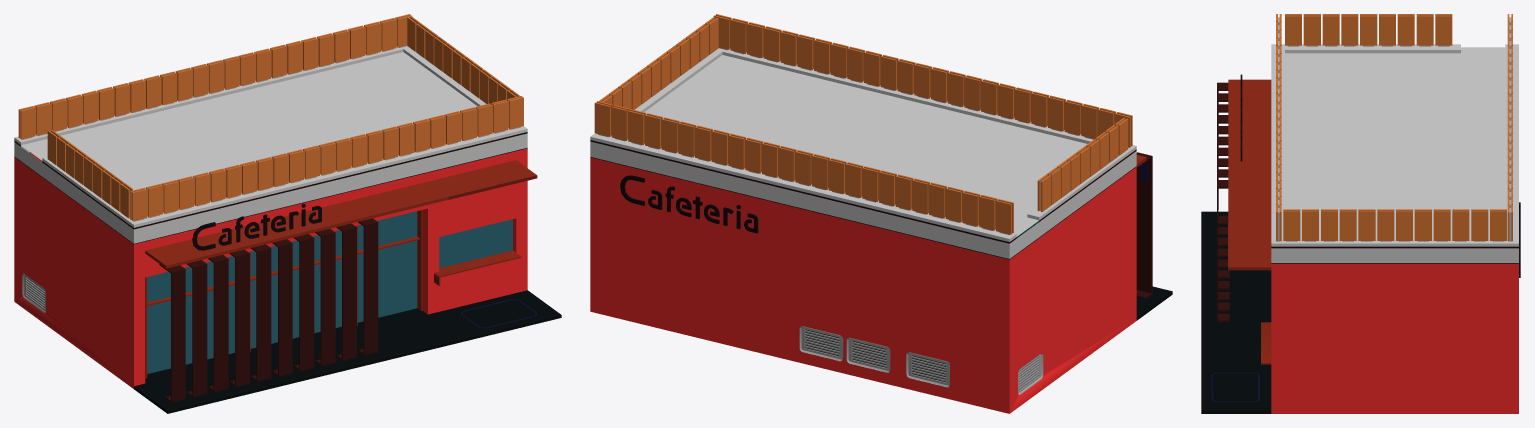
Rendered from Building_Cafe_002_L1.fbx.
The picture shows the model from 3 angles, left to right: view 1: azimuth 30°, elevation 25°; view 2: azimuth 150°, elevation 25°; view 3: azimuth 270°, elevation 25°; orthographic projection. The views are drawn at different scales.
Visible parts, largest first — view 1: Building_Cafe_002_L1; view 2: Building_Cafe_002_L1; view 3: Building_Cafe_002_L1.
Part boxes in pixels (bbox=[...]): Building_Cafe_002_L1: bbox=[14, 14, 561, 413]; Building_Cafe_002_L1: bbox=[590, 14, 1172, 413]; Building_Cafe_002_L1: bbox=[1201, 14, 1520, 413].
Bounding box in the file's own units: 13.8 × 6.5 × 9.35.
